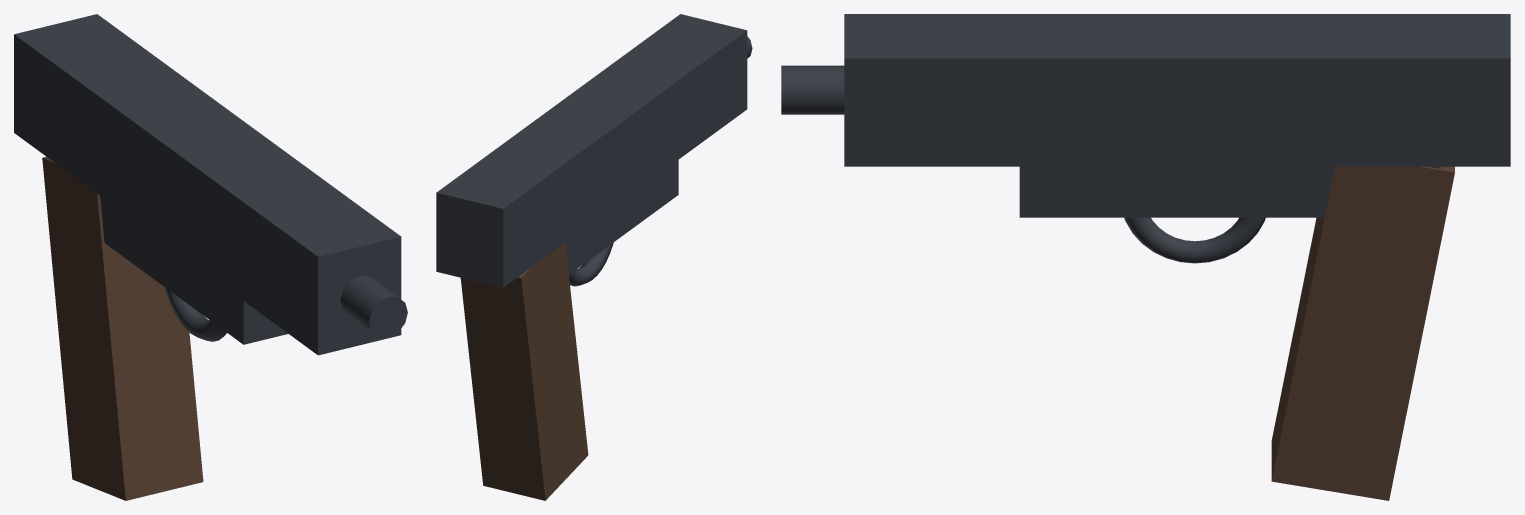
Rendered from pistol.glb.
3 views of the same model, side by side, from view 1: azimuth 30°, elevation 25°; view 2: azimuth 150°, elevation 25°; view 3: azimuth 270°, elevation 25° (orthographic). The views are drawn at different scales.
Visible parts, largest first — view 1: pistol-slide, pistol-handle, pistol-frame, pistol-muzzle, pistol-trigger-guard; view 2: pistol-slide, pistol-handle, pistol-frame, pistol-trigger-guard; view 3: pistol-slide, pistol-handle, pistol-frame, pistol-trigger-guard, pistol-muzzle.
Boxes of the visible parts, bbox=[...] form: pistol-slide: bbox=[14, 14, 401, 355]; pistol-handle: bbox=[42, 156, 203, 500]; pistol-frame: bbox=[100, 196, 288, 344]; pistol-muzzle: bbox=[340, 275, 407, 337]; pistol-trigger-guard: bbox=[164, 287, 226, 341]; pistol-slide: bbox=[436, 14, 747, 287]; pistol-handle: bbox=[460, 243, 588, 500]; pistol-frame: bbox=[565, 160, 678, 274]; pistol-trigger-guard: bbox=[569, 242, 613, 286]; pistol-slide: bbox=[844, 14, 1510, 166]; pistol-handle: bbox=[1271, 166, 1454, 500]; pistol-frame: bbox=[1019, 166, 1440, 217]; pistol-trigger-guard: bbox=[1124, 217, 1265, 263]; pistol-muzzle: bbox=[781, 65, 844, 114].
Size of the model in its own units: 0.03 by 0.1397 by 0.208.
